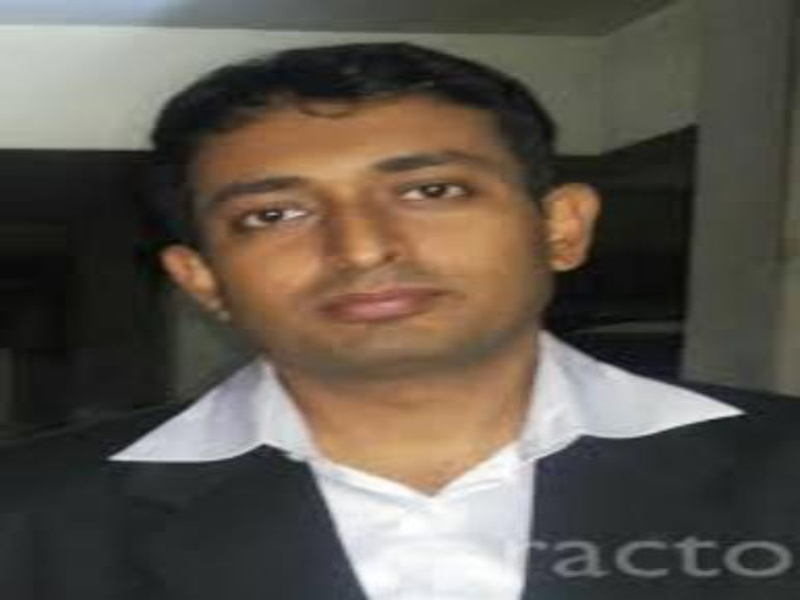TsisyArotava: (144, 50, 622, 380)
